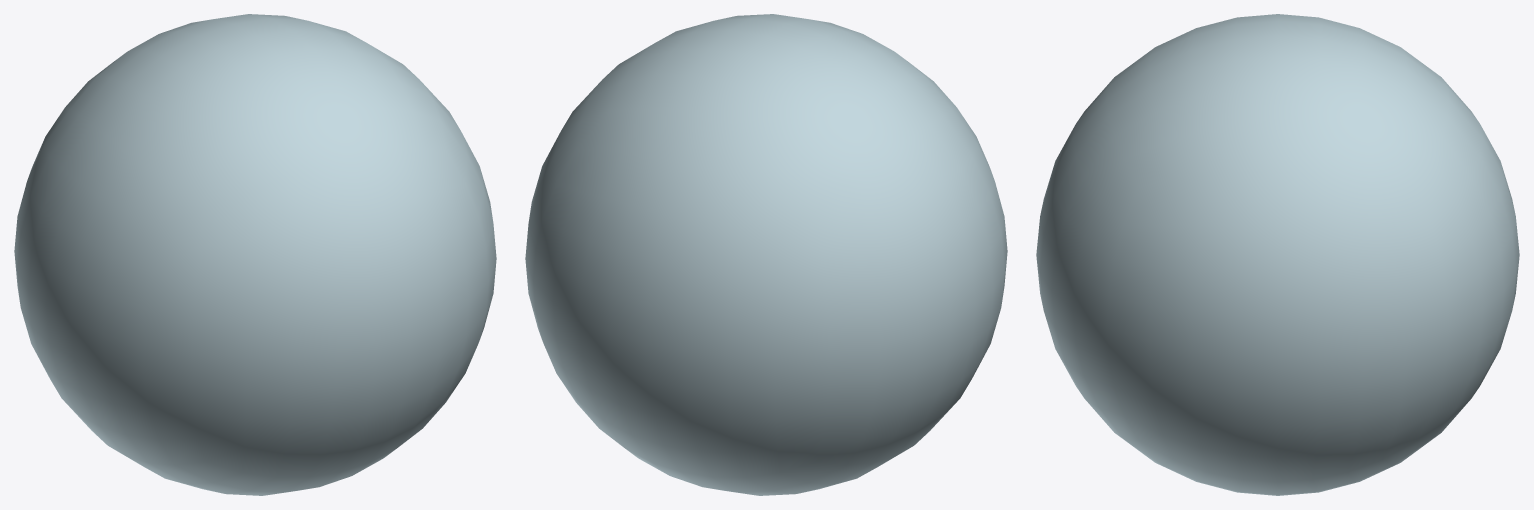
Rendered from 10_Ne_CKP.fbx.
3 views of the same model, side by side, from view 1: azimuth 30°, elevation 25°; view 2: azimuth 150°, elevation 25°; view 3: azimuth 270°, elevation 25° (orthographic).
Parts seen in each view (by area): view 1: NE.001; view 2: NE.001; view 3: NE.001.
Part boxes in pixels (<box>): NE.001: <box>14,14,496,495</box>; NE.001: <box>525,14,1007,495</box>; NE.001: <box>1036,14,1519,495</box>.
Size of the model in its own units: 166 by 166 by 166.
